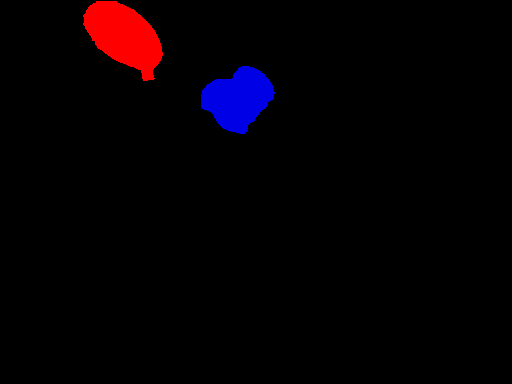cup: (199, 64, 276, 135)
speaker: (84, 1, 163, 82)
